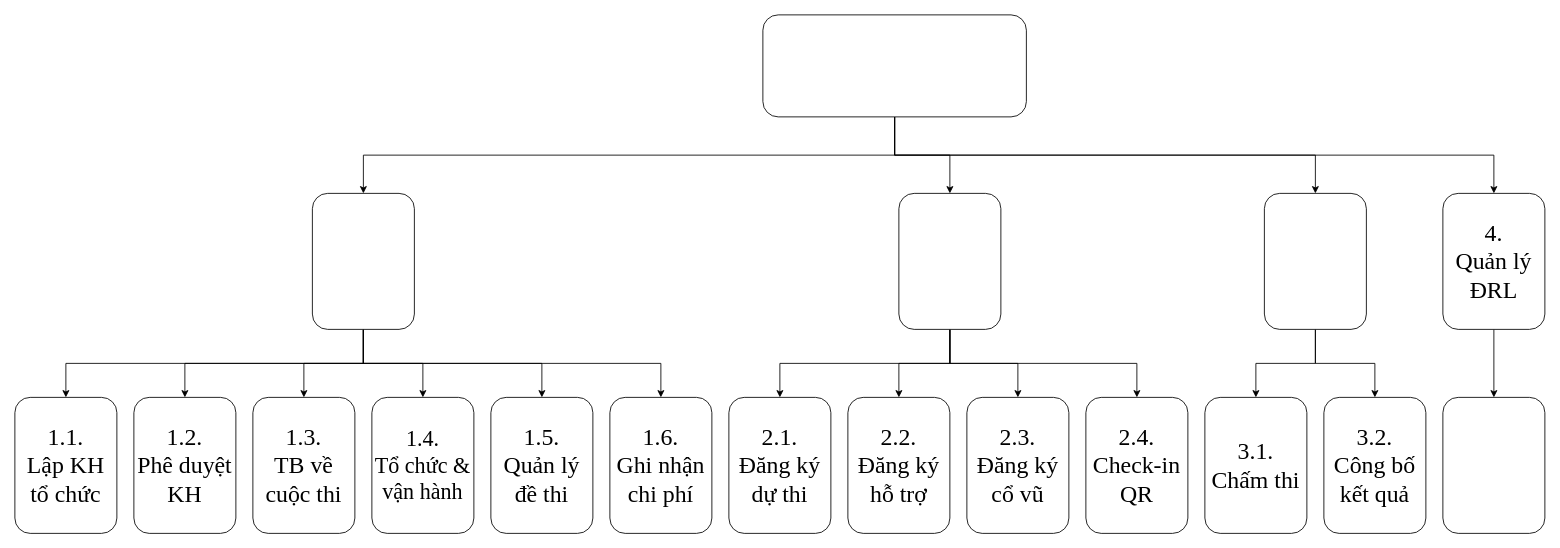
This 1560x548 diagram has some shape labels left out. The centre of each missing label's shape, as x and y in pixels:
"1. Quản lý cuộc thi" belongs at pixel 363 261.
"2. Quản lý tham gia" belongs at pixel 949 261.
"3. Quản lý kết quả" belongs at pixel 1315 261.
"4.1. Đề xuất cộng DRL" belongs at pixel 1493 465.
"HỆ THỐNG QUẢN LÝ CUỘC THI HỌC THUẬT KHOA CNTT" belongs at pixel 894 65.
